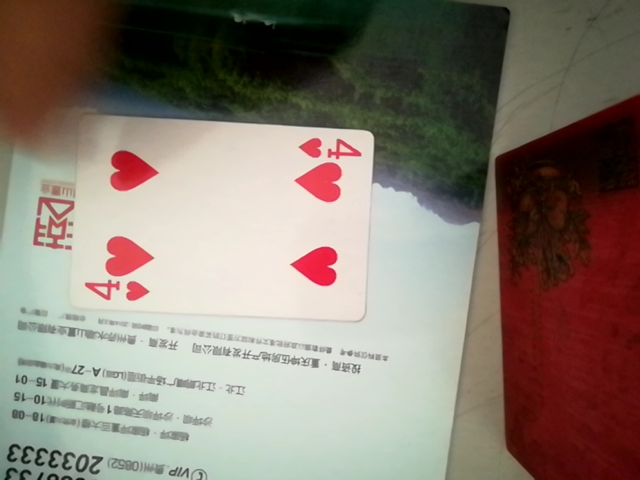hx 4: (47, 113, 382, 320)
